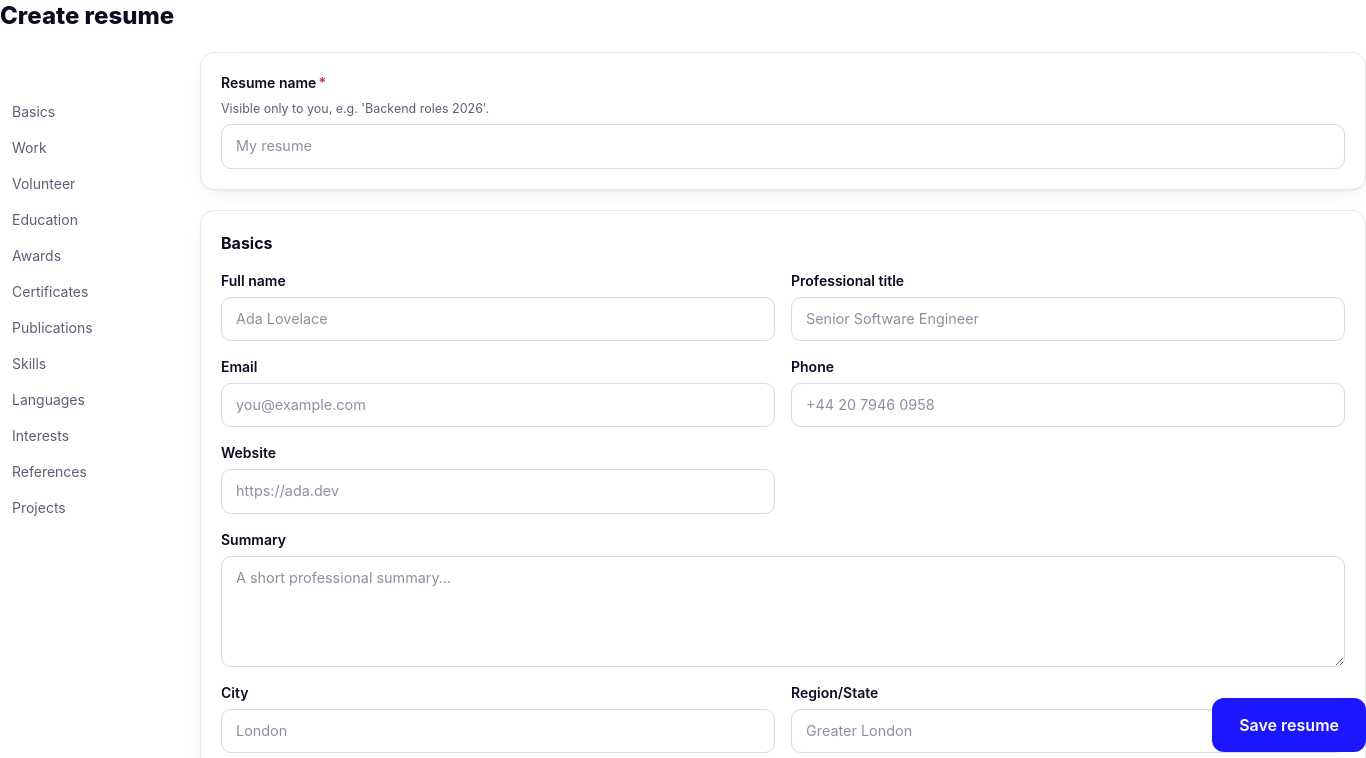
Test: create flow (issue #69 / 8.5) › invalid partial date blocks submit with the shared message
The width and height of the screenshot is (1366, 758).
Type "X" into the field labelled "Resume name*" at coordinates (783, 146), box [221,124,1345,169]
(page scrolled)
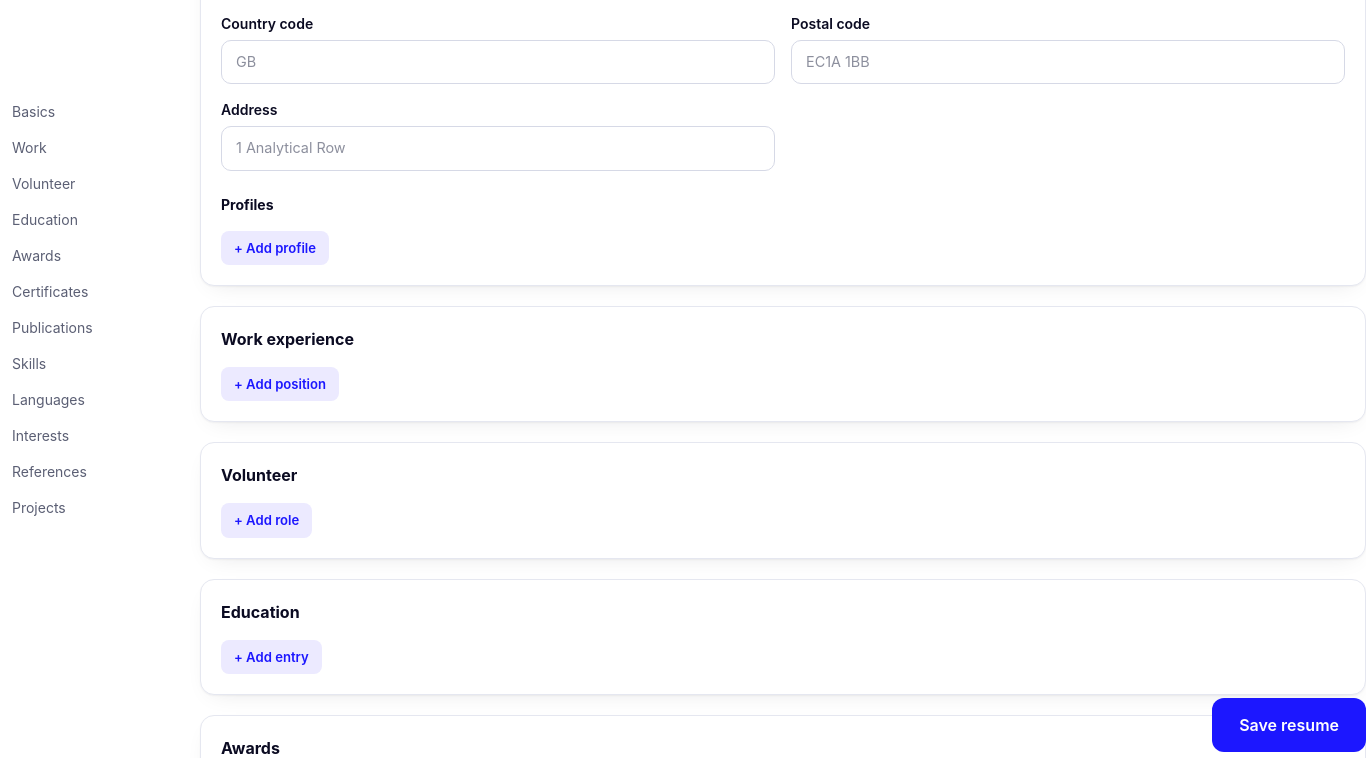
Click the button "+ Add position" at coordinates (280, 384), box [221,367,339,401]
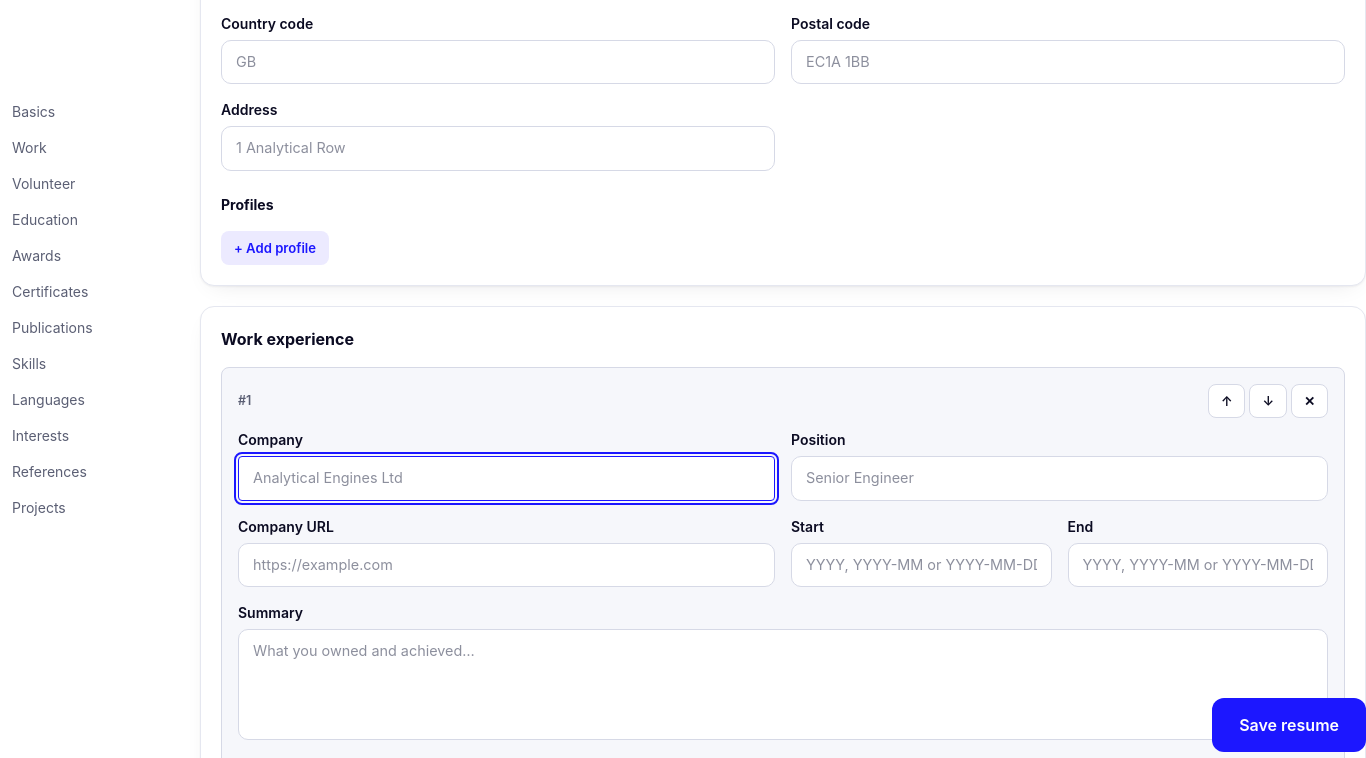
Type "13-2024" into the field labelled "Start" at coordinates (921, 565), box [791,543,1052,587]
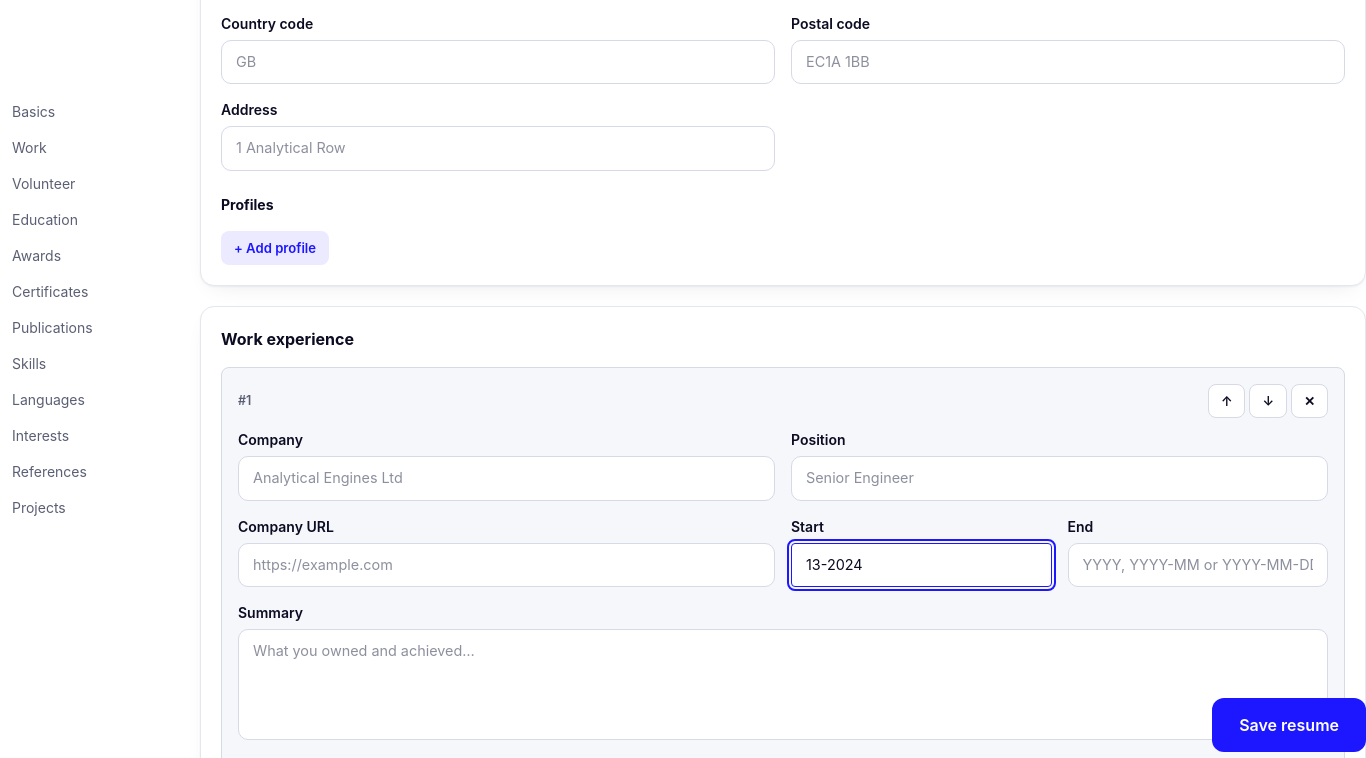
Click the button "Save resume" at coordinates (1289, 725), box [1212,698,1365,752]
(page scrolled)
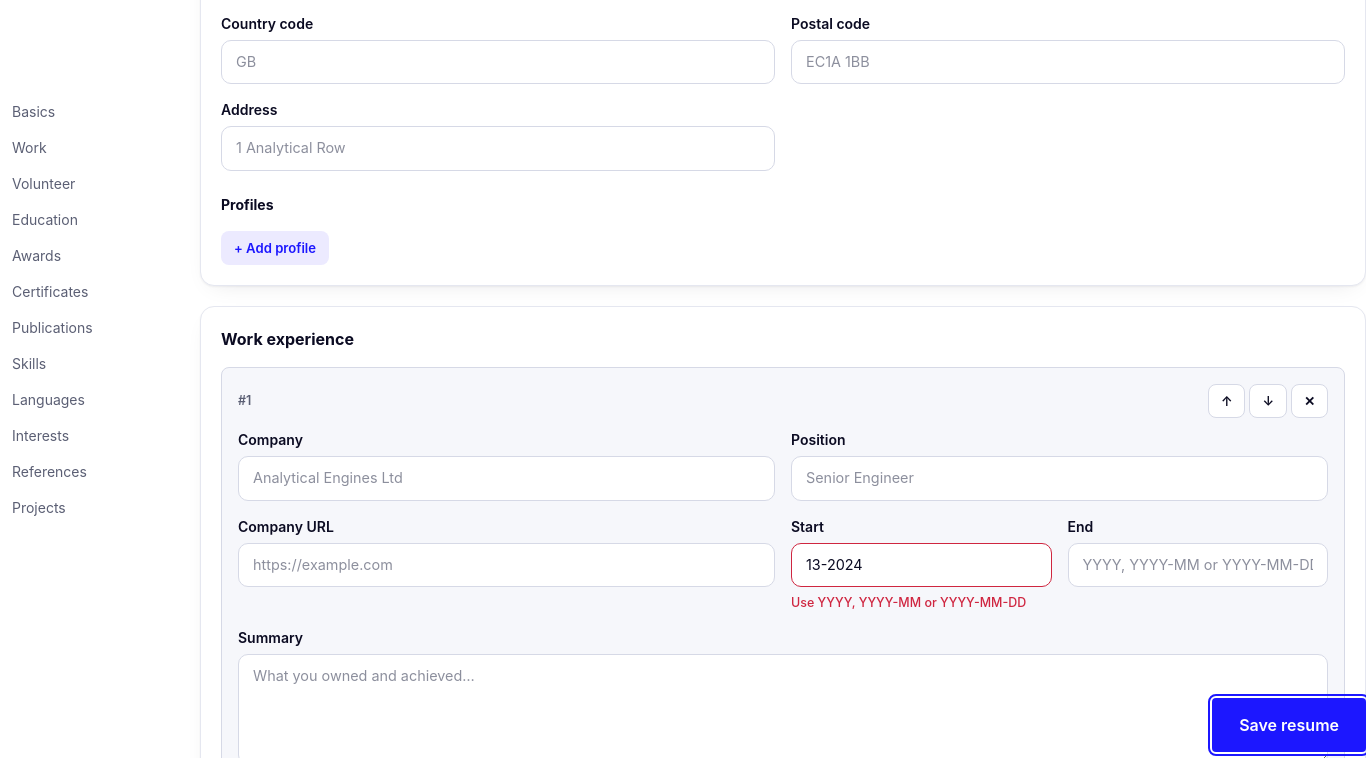
Now the text "Use YYYY, YYYY-MM or YYYY-MM-DD" is shown, box [791,593,1052,612]
